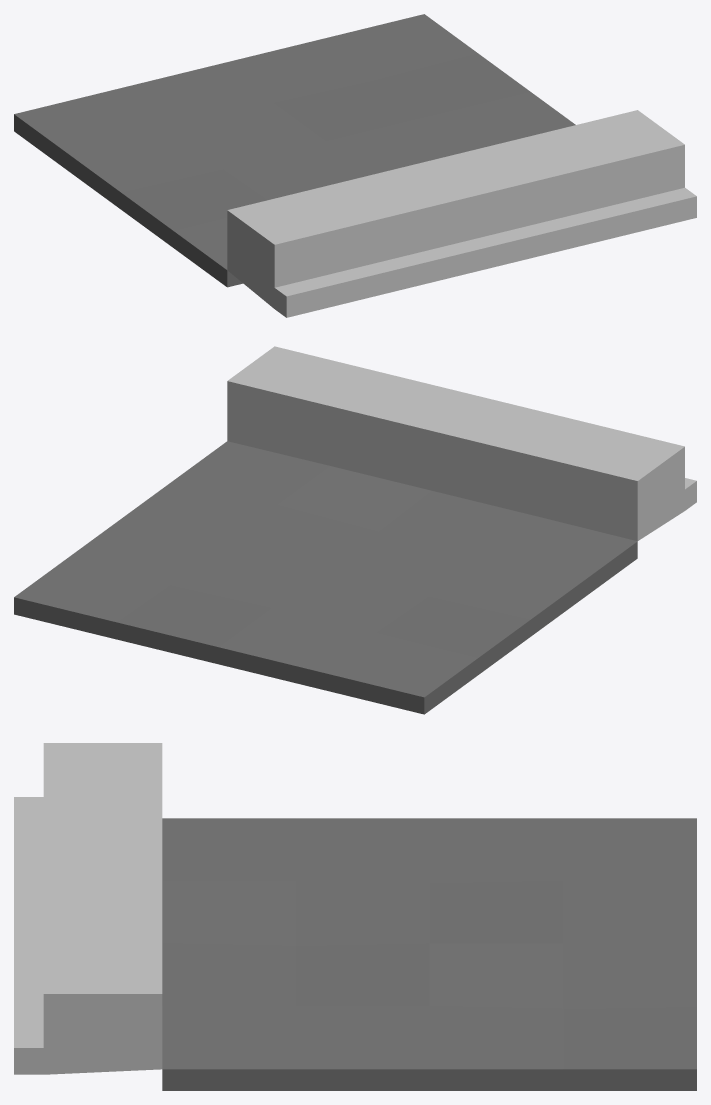
The model's file is RoofFlatSmall.fbx.
3 views of the same model, one above another, from view 1: azimuth 30°, elevation 25°; view 2: azimuth 150°, elevation 25°; view 3: azimuth 270°, elevation 25° (orthographic). The views are drawn at different scales.
Visible parts, largest first — view 1: RoofFlatSmall; view 2: RoofFlatSmall; view 3: RoofFlatSmall.
Boxes of the visible parts, left/top/right/bottom form: RoofFlatSmall: left=14, top=14, right=696, bottom=317; RoofFlatSmall: left=14, top=346, right=696, bottom=714; RoofFlatSmall: left=14, top=743, right=696, bottom=1090.
Bounding box in the file's own units: 100 × 18 × 115.
